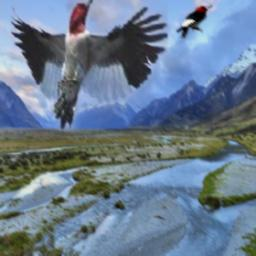Woodpecker: (11, 0, 168, 132), (177, 5, 214, 39)
